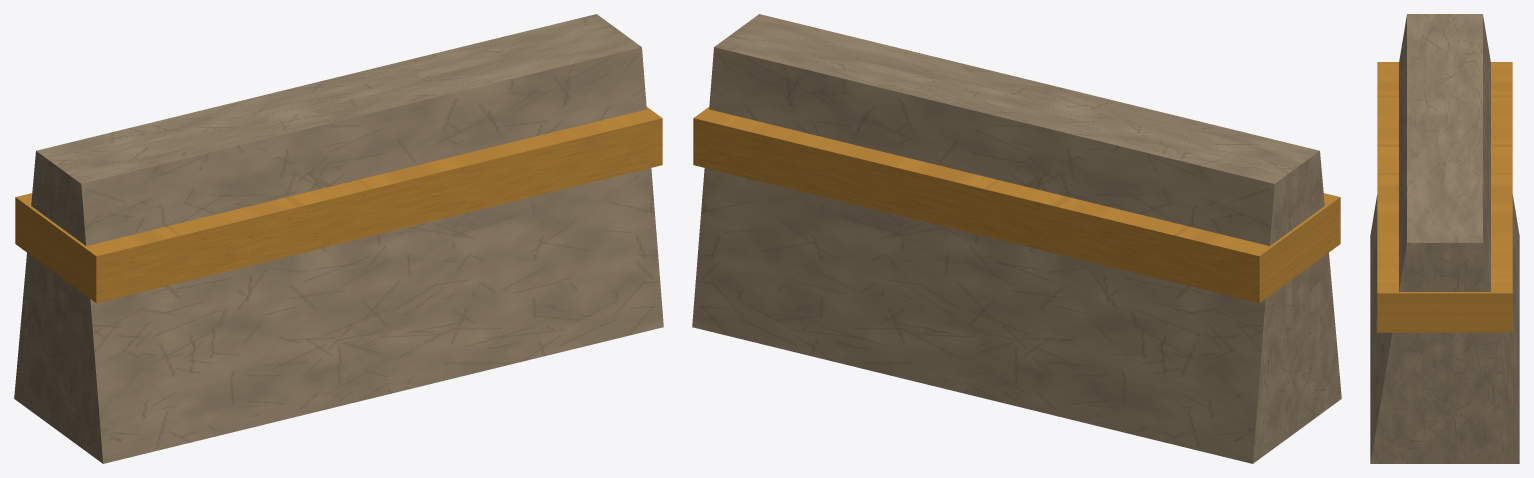
Rendered from prop_jersey_barrier.obj.
3 renders of one model, left to right at view 1: azimuth 30°, elevation 25°; view 2: azimuth 150°, elevation 25°; view 3: azimuth 270°, elevation 25°, orthographic. The views are drawn at different scales.
Parts seen in each view (by area): view 1: prop_jersey_barrier; view 2: prop_jersey_barrier; view 3: prop_jersey_barrier.
Part boxes in pixels (box(x1,y1,x2,y2)): prop_jersey_barrier: box(14, 14, 663, 463); prop_jersey_barrier: box(692, 14, 1341, 463); prop_jersey_barrier: box(1370, 14, 1519, 463).
Bounding box in the file's own units: 2.02 × 0.9 × 0.55.
Materials: 1 (1 with a texture image).
